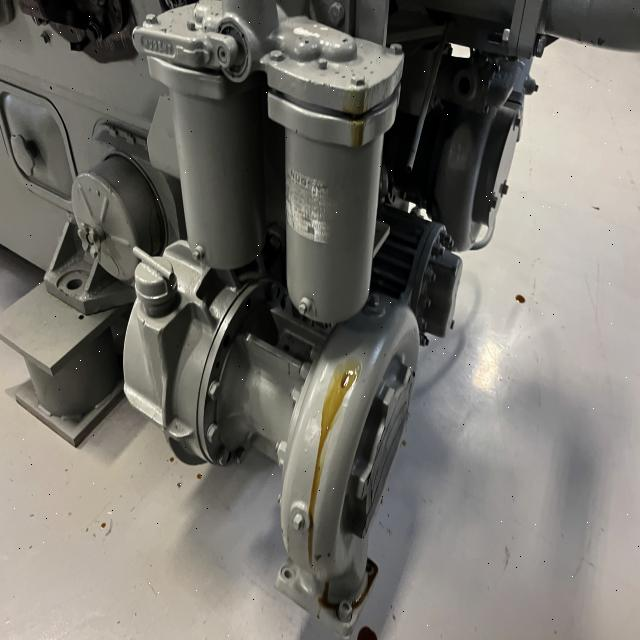Oil Leak: (285, 358, 361, 568), (337, 77, 370, 148)
